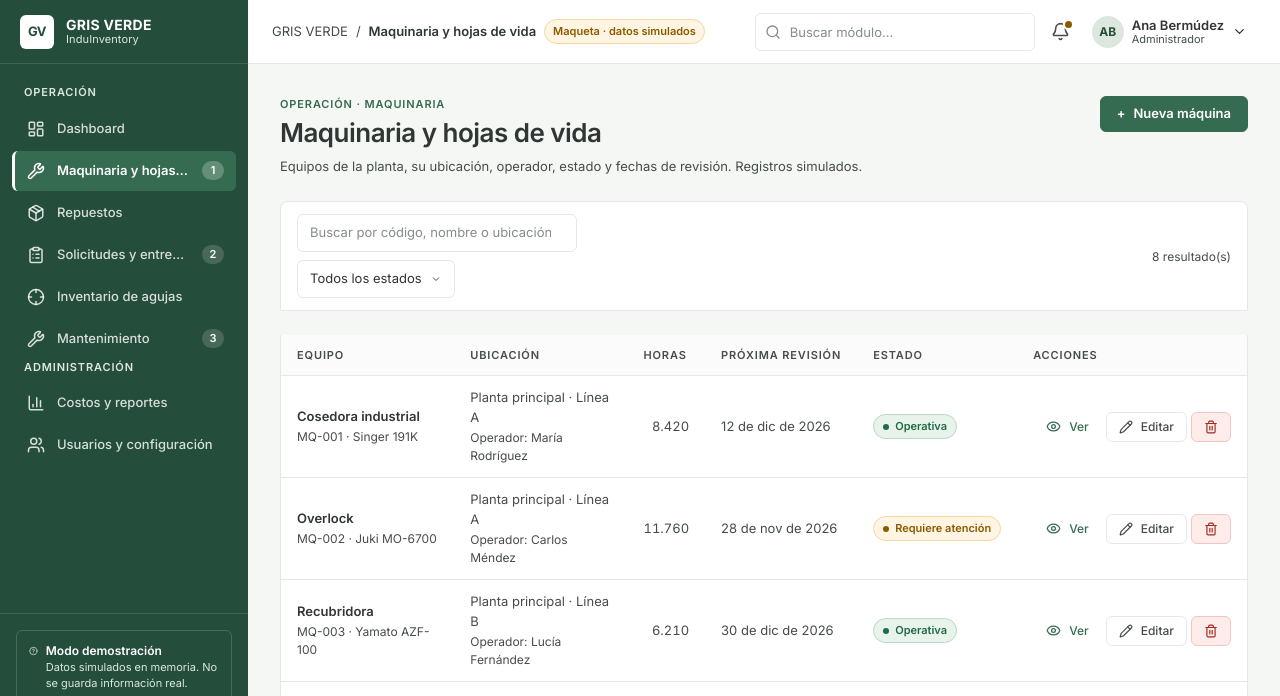
Test case: InduInventory · shell y maqueta › valida el formulario de repuestos antes de aceptar una operación simulada
Step 1. Click the link "Repuestos" → x=75, y=212, box [27, 204, 122, 222]
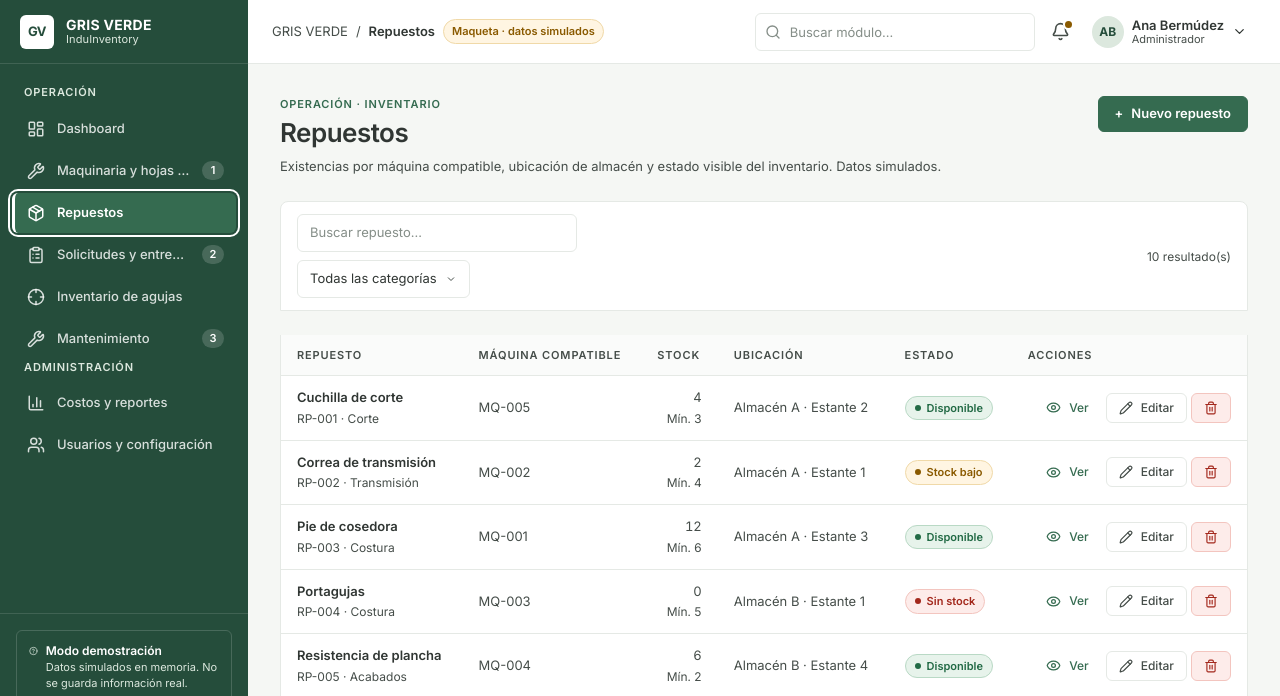
Now the heading "Repuestos" is shown, box [280, 116, 408, 148]
Step 2. Click the button "+ Nuevo repuesto" → x=1173, y=114, box [1098, 96, 1248, 132]
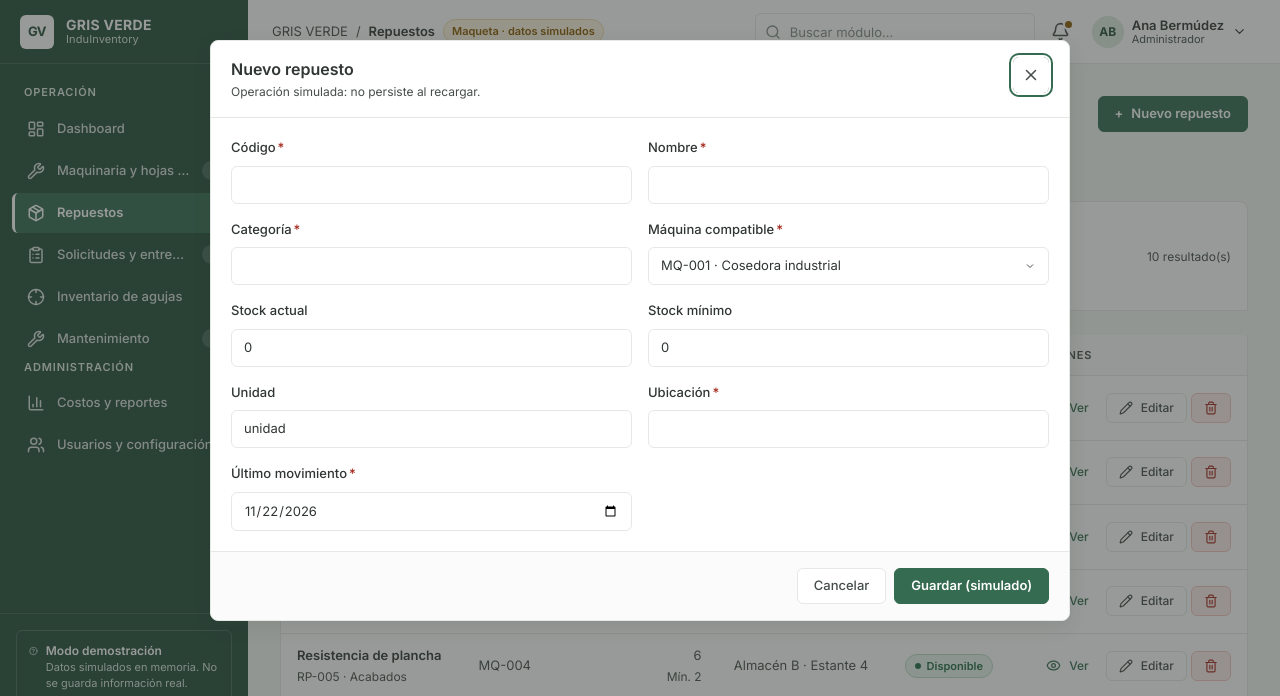
Step 3. Click the button "Guardar (simulado)" → x=972, y=586, box [894, 568, 1049, 604]
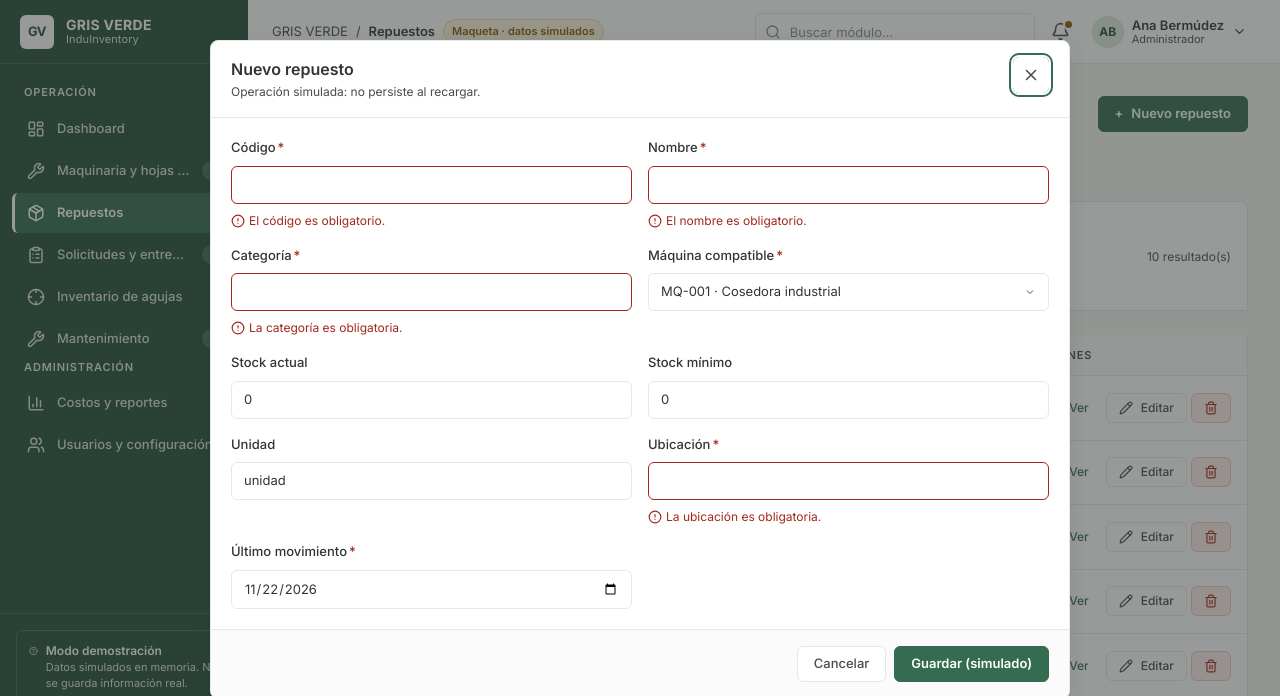
Now the text "El código es obligatorio." is shown, box [231, 212, 385, 228]
